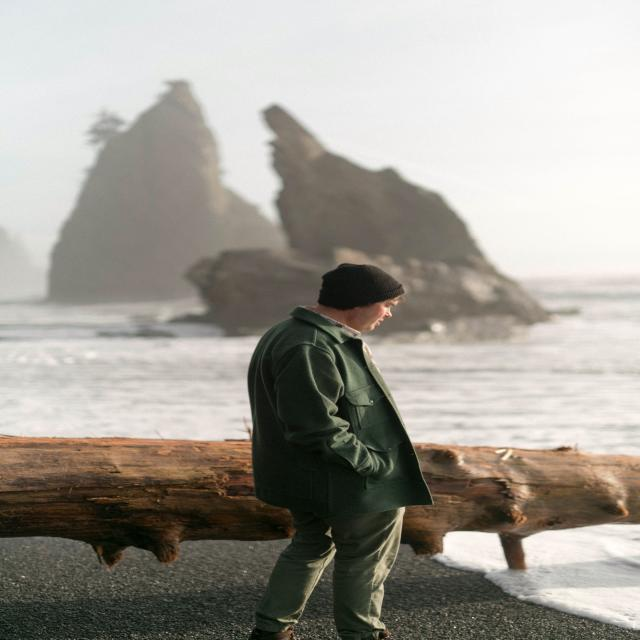adult: (245, 264, 406, 640)
